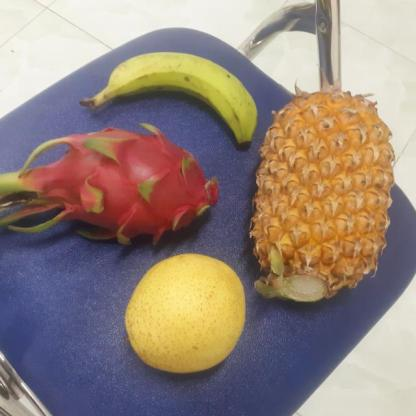banana: (100, 50, 262, 144)
pear: (124, 254, 252, 376)
pineapple: (259, 98, 396, 304)
pitaya: (36, 124, 231, 248)
